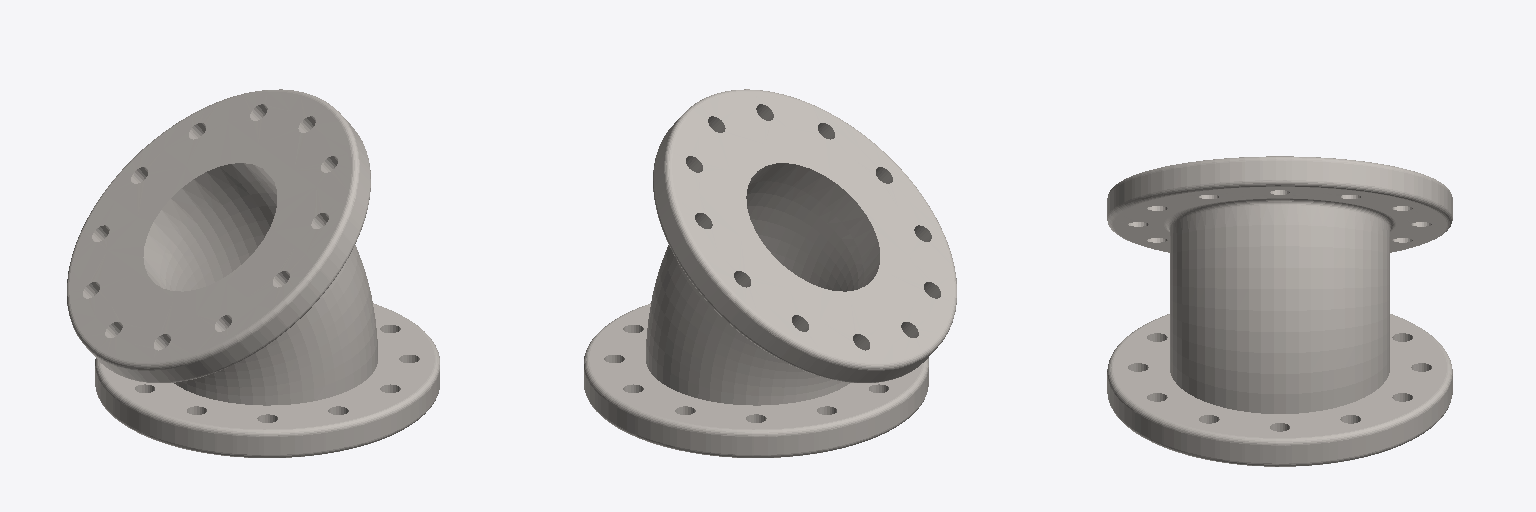
Rendered from secf_prob4.obj.
3 renders of one model, left to right at view 1: azimuth 30°, elevation 25°; view 2: azimuth 150°, elevation 25°; view 3: azimuth 270°, elevation 25°, orthographic.
Visible parts, largest first — view 1: SecF_Prob4; view 2: SecF_Prob4; view 3: SecF_Prob4.
Part boxes in pixels (bbox=[...]): SecF_Prob4: bbox=[67, 89, 439, 457]; SecF_Prob4: bbox=[584, 89, 956, 457]; SecF_Prob4: bbox=[1107, 156, 1452, 466].
Size of the model in its own units: 0.1315 by 0.1044 by 0.122.